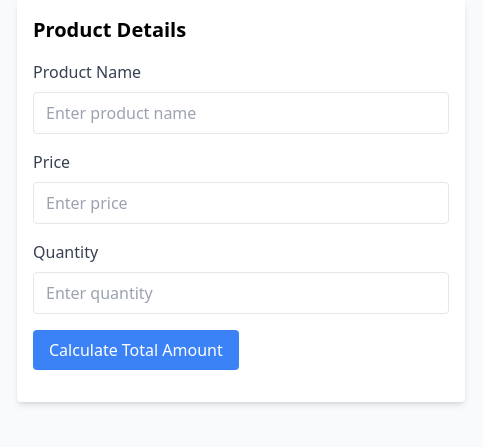
Test: ProductDetails Component › should compute total amount correctly with valid inputs
The width and height of the screenshot is (483, 447).
Type "15.5" into the number field labelled "Price".
click(241, 203); type("15.5")  # box [33,182,449,224]
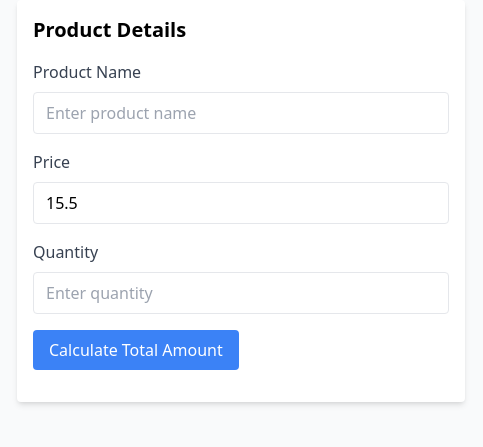
Type "4" into the number field labelled "Quantity".
click(241, 293); type("4")  # box [33,272,449,314]
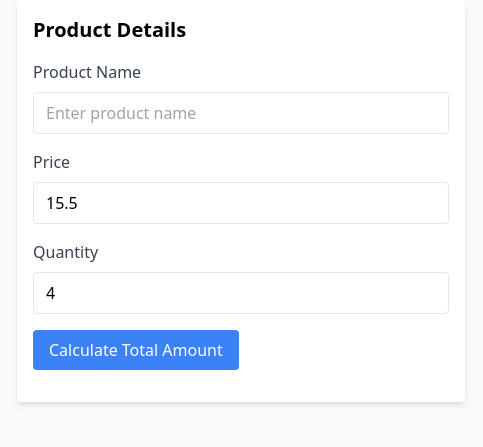
Click the button "Calculate Total Amount".
click(136, 350)  # box [33,330,239,370]
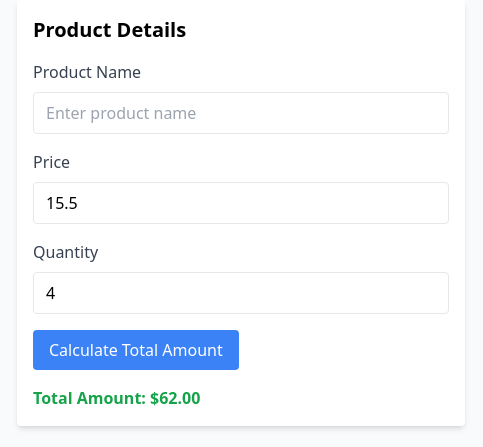
Expected: the text "Total Amount: $62.00" is shown, [33,387,200,409]
